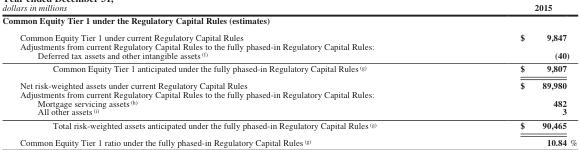table: (1, 1, 576, 146)
table column: (1, 1, 447, 146), (447, 1, 576, 146)
table column header: (1, 1, 576, 13)
table projected row header: (1, 13, 576, 28), (1, 41, 576, 49), (1, 89, 576, 97)
table row: (1, 13, 576, 28), (1, 61, 576, 76), (1, 118, 576, 133), (1, 28, 576, 41), (1, 76, 576, 89), (1, 133, 576, 146), (1, 1, 576, 13), (1, 49, 576, 61), (1, 106, 576, 118), (1, 97, 576, 106), (1, 41, 576, 49), (1, 89, 576, 97)
